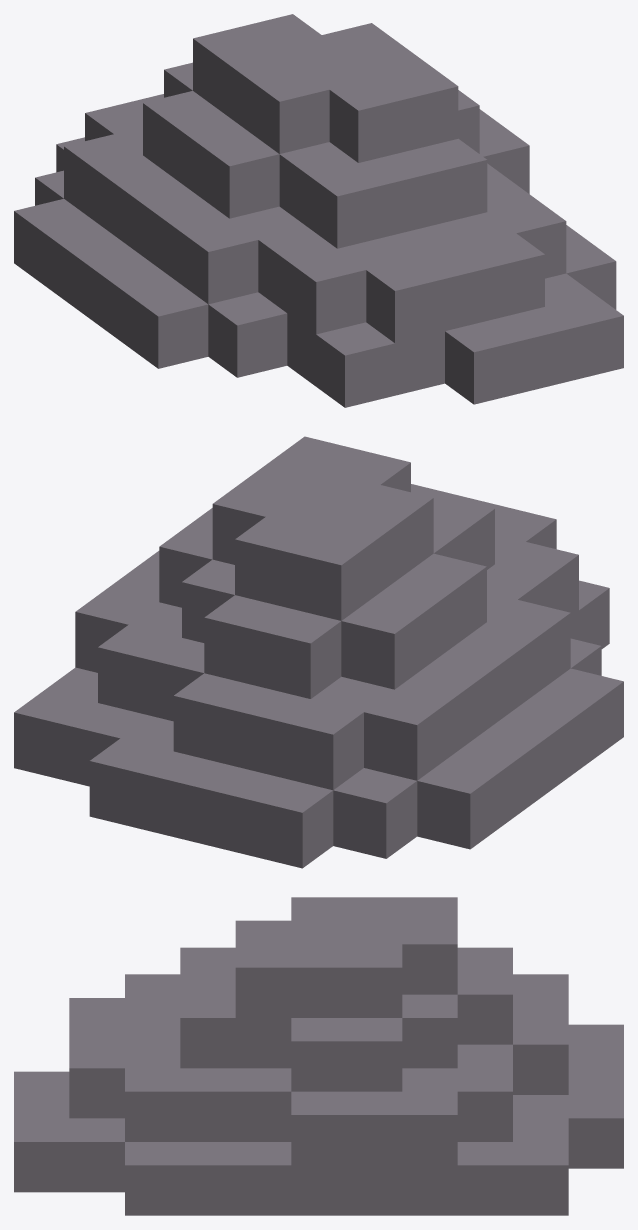
Rendered from stone.obj.
3 renders of one model, top to bottom at view 1: azimuth 30°, elevation 25°; view 2: azimuth 150°, elevation 25°; view 3: azimuth 270°, elevation 25°, orthographic. The views are drawn at different scales.
Bounding box in the file's own units: 0.8 × 0.4 × 1.1.
1 material, 1 textured.
